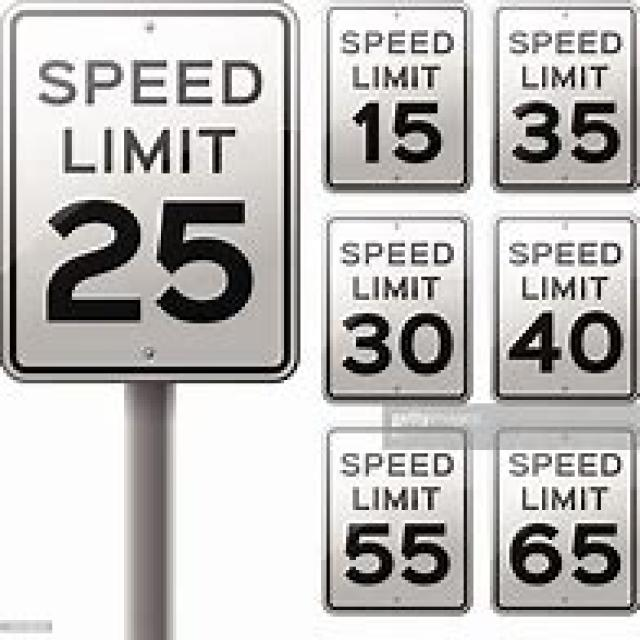speedLimit15: (320, 5, 467, 189)
speedLimit25: (7, 10, 290, 387)
speedLimit30: (323, 212, 464, 408)
speedLimit35: (488, 7, 636, 183)
speedLimit40: (492, 215, 628, 402)
speedLimit55: (322, 428, 468, 608)
speedLimit65: (495, 433, 632, 617)
